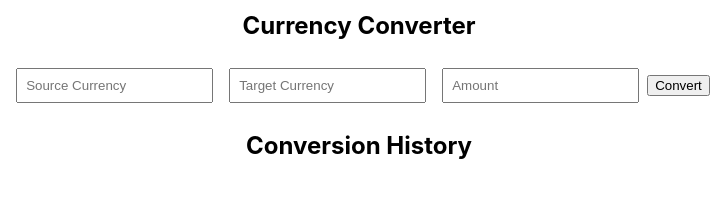
Test: Currency Converter › Currency conversion does not exist
# Enter source currency, target currency, and amount
Step 1. Type "USD" into the field with placeholder "Source Currency" → (115, 86), box 16,68 -> 213,103
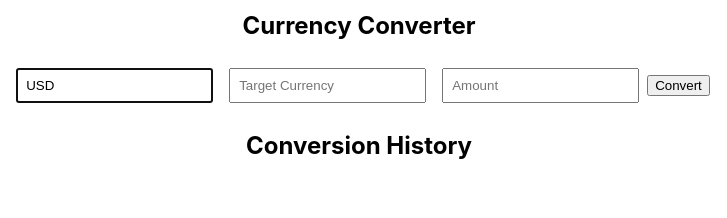
Step 2. Type "INR" into the field with placeholder "Target Currency" → (328, 86), box 229,68 -> 426,103
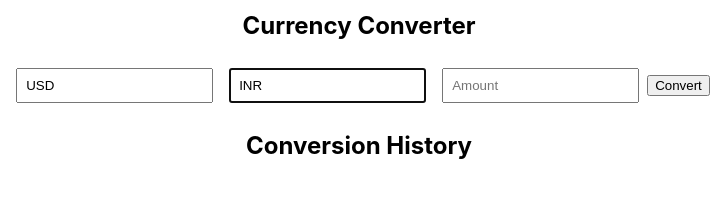
Step 3. Type "10" into the number field with placeholder "Amount" → (541, 86), box 442,68 -> 639,103
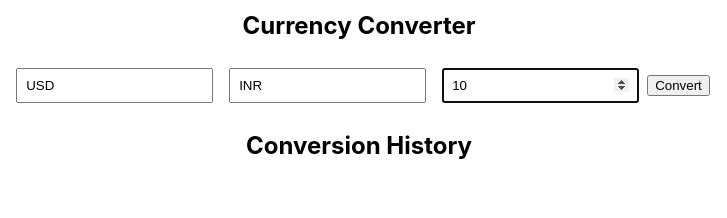
# Click on the convert button
Step 4. Click the button "Convert" → click(679, 86), box 647,75 -> 710,96
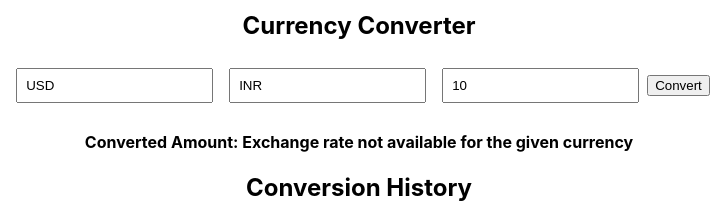
Expected: the heading "Converted Amount: Exchange rate not available for the given currency" is shown, 85,132 -> 633,152
